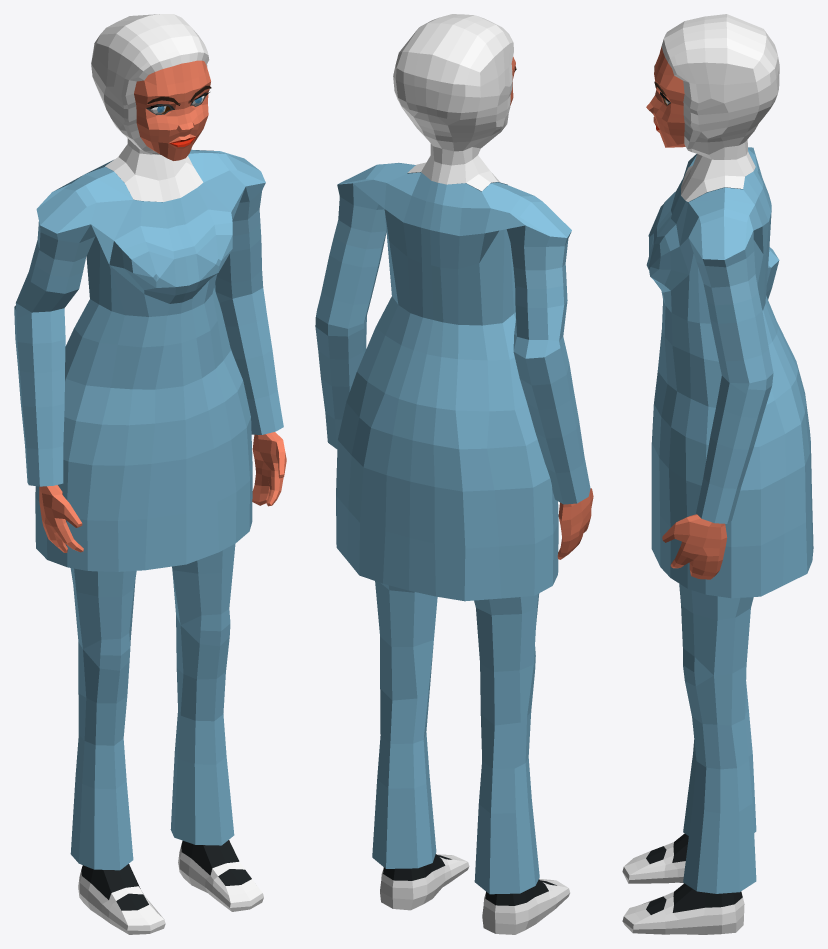
The model's file is Nurse_Stand.fbx.
The picture shows the model from 3 angles, left to right: view 1: azimuth 30°, elevation 25°; view 2: azimuth 150°, elevation 25°; view 3: azimuth 270°, elevation 25°; orthographic projection. The views are drawn at different scales.
Parts seen in each view (by area): view 1: Nurse_Stand; view 2: Nurse_Stand; view 3: Nurse_Stand.
Boxes of the visible parts, left/top/right/bottom form: Nurse_Stand: left=14, top=14, right=286, bottom=934; Nurse_Stand: left=315, top=14, right=593, bottom=934; Nurse_Stand: left=622, top=14, right=813, bottom=934.
Size of the model in its own units: 0.2819 by 0.9253 by 0.1823.
